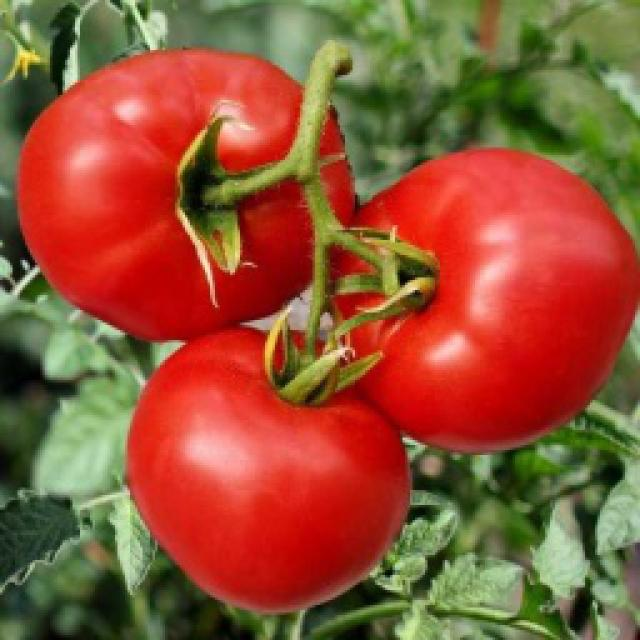tomato: (15, 45, 360, 343), (328, 145, 638, 450), (125, 328, 407, 612)
